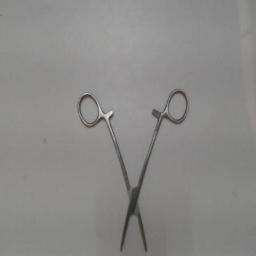Mayo Needle Holder: (75, 84, 193, 254)
